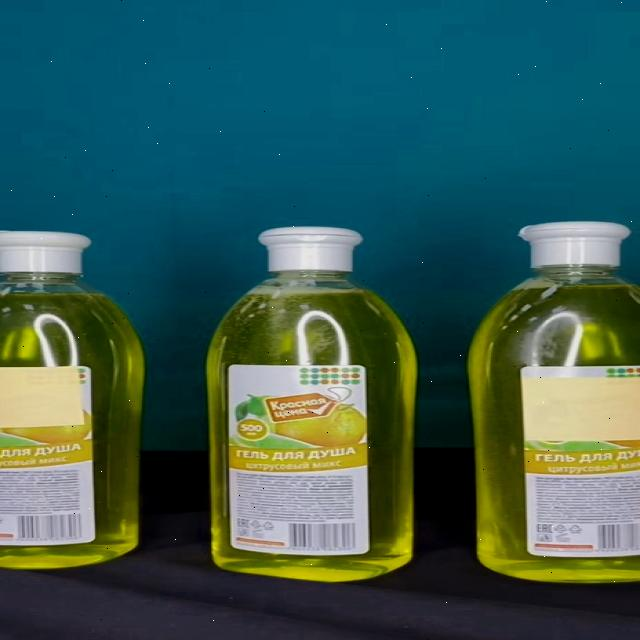Bottle: (206, 226, 418, 582), (466, 222, 640, 583)
Cap: (521, 222, 630, 266), (257, 226, 363, 270)
